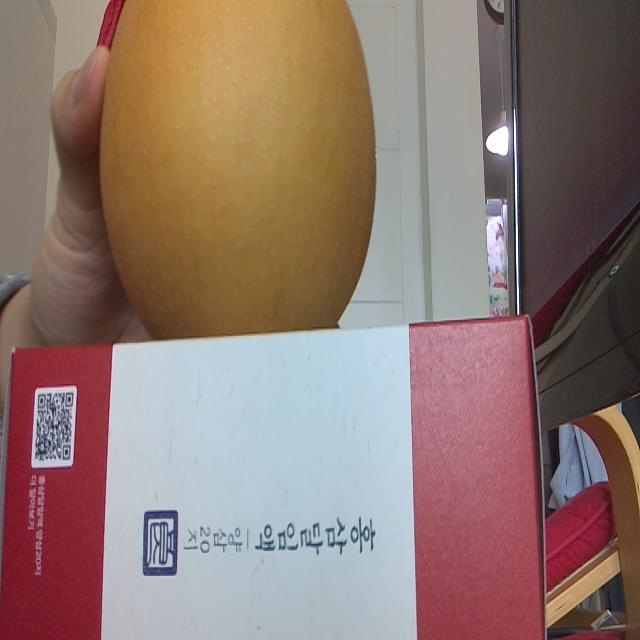pear: (99, 0, 375, 330)
